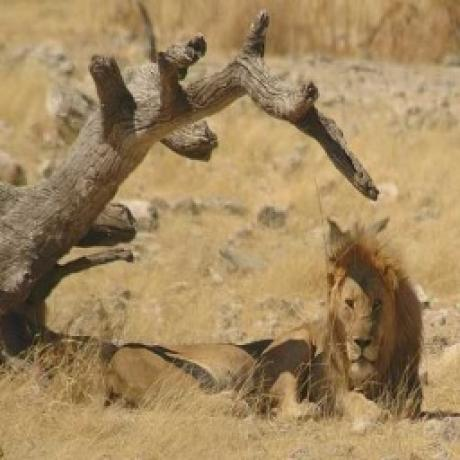Lion: (109, 229, 429, 423)
